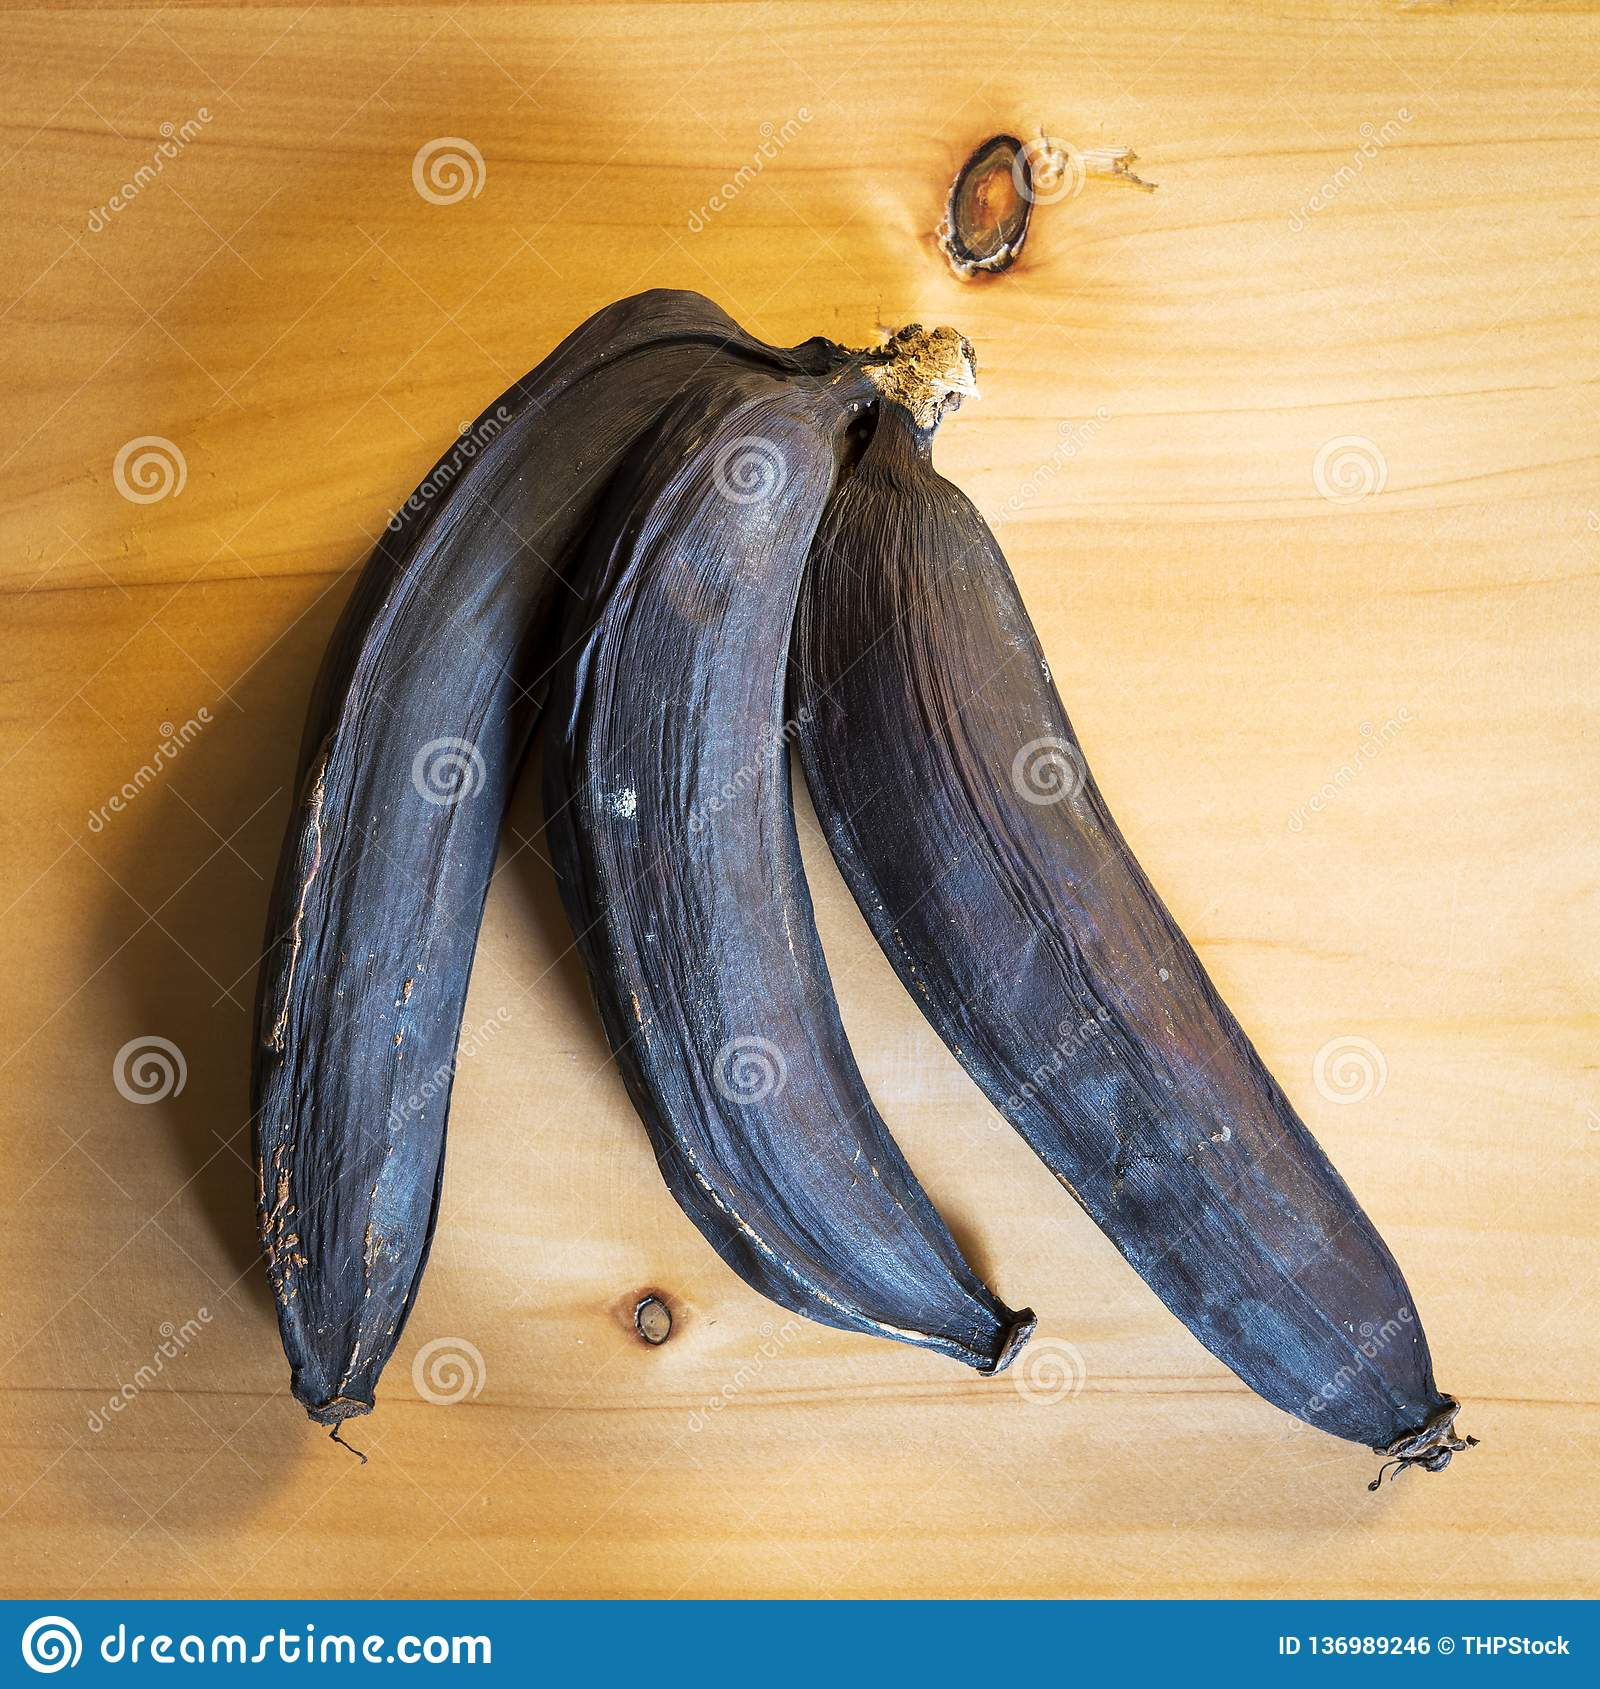rotten_banana: (792, 371, 1480, 1487), (251, 290, 786, 1430), (541, 368, 1038, 1381)
